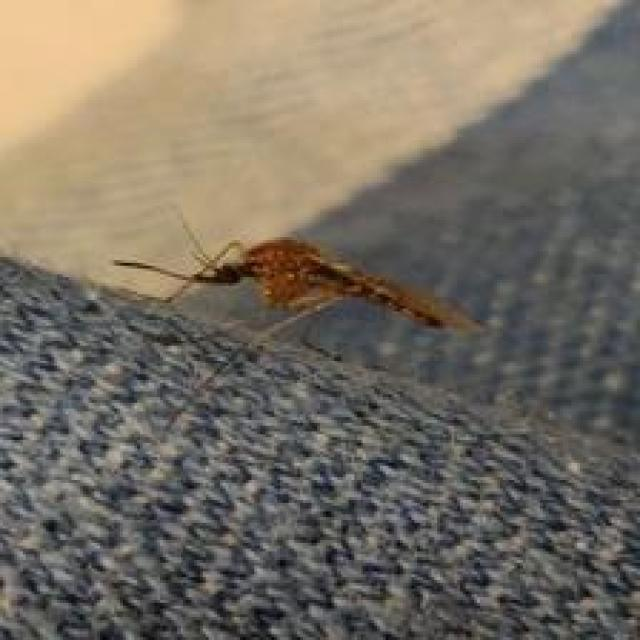Culex: (111, 213, 488, 361)
